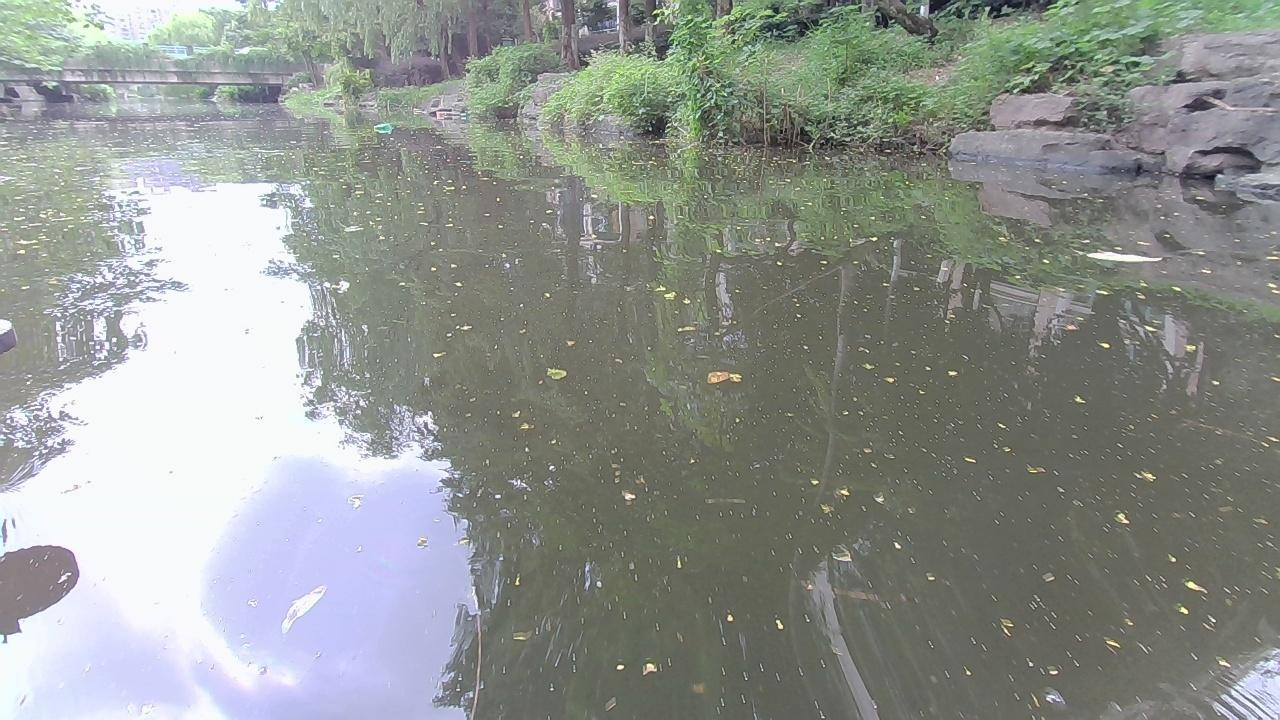bottle: (370, 121, 393, 131)
